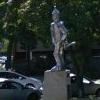Statue: (38, 1, 75, 76)
